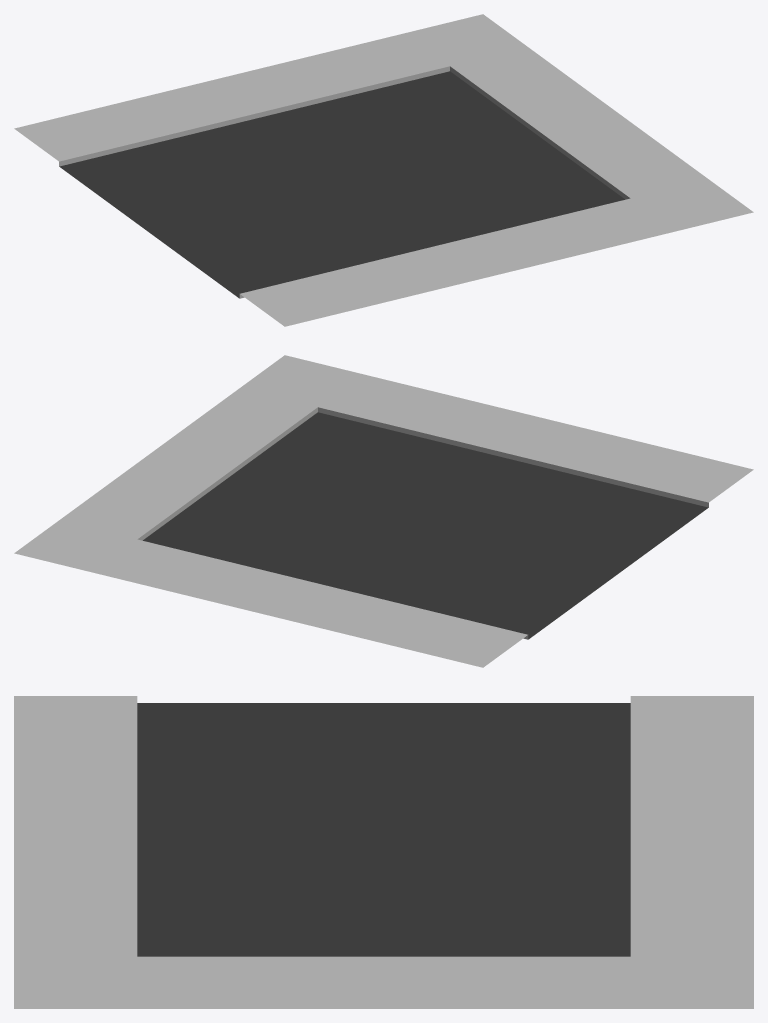
File: Strasse4.glb
3 views of the same model, one above another, from view 1: azimuth 30°, elevation 25°; view 2: azimuth 150°, elevation 25°; view 3: azimuth 270°, elevation 25° (orthographic). The views are drawn at different scales.
Visible parts, largest first — view 1: Strasse4; view 2: Strasse4; view 3: Strasse4.
Boxes of the visible parts, left/top/right/bottom form: Strasse4: left=14, top=14, right=753, bottom=326; Strasse4: left=14, top=355, right=753, bottom=667; Strasse4: left=14, top=696, right=753, bottom=1008.
Size of the model in its own units: 6 by 0.061 by 6.
Materials: 1 (1 with a texture image).
